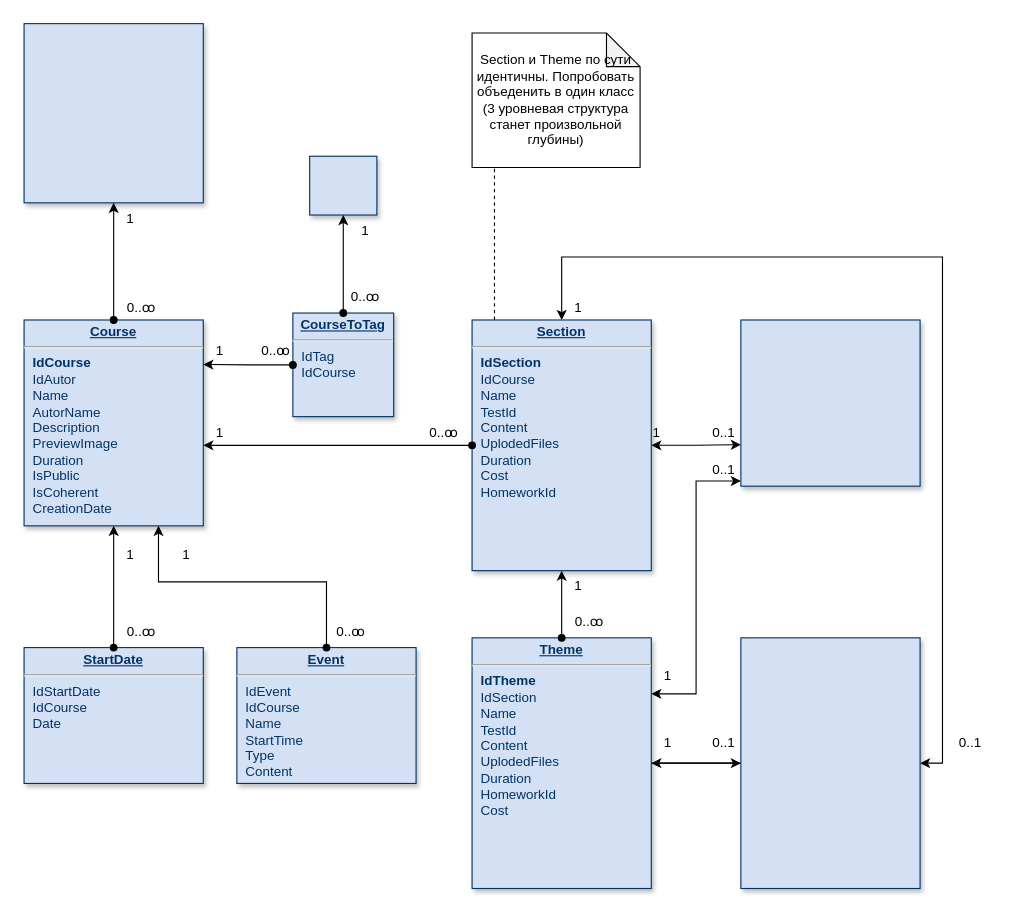
This 1018x917 diagram has some shape labels left out. The centre of each missing label's shape, as x and y in pixels:
Autor IdAutor UserId Name Description PreviewImage: [114,114]
Homework IdHomework Name Description UplodedFiles Duration Cost: [831,764]
Tag IdTag: [344,187]
Test IdTest Name StartTime EndTime Duration Type Content Cost: [831,404]
